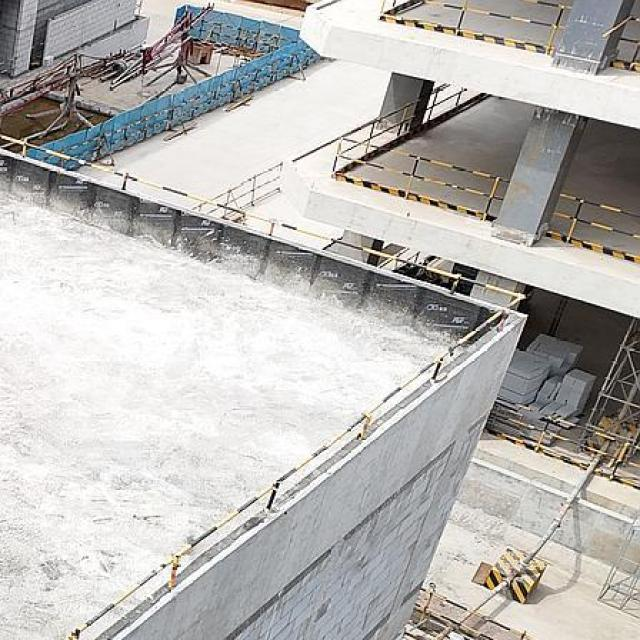edge_guardrail: (0, 131, 527, 640), (332, 84, 512, 222), (484, 396, 640, 488), (378, 0, 575, 54), (544, 191, 640, 260), (413, 583, 524, 640), (617, 35, 640, 65)
